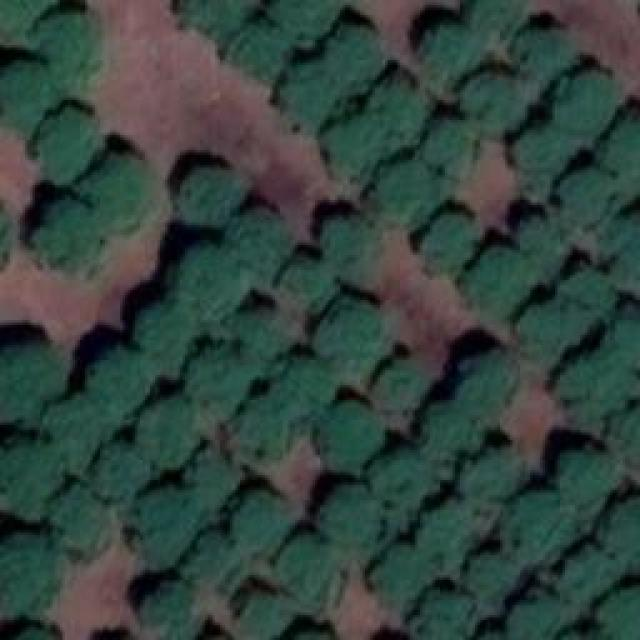Tree: (88, 153, 158, 233), (498, 490, 573, 563), (317, 298, 385, 373), (135, 485, 198, 563), (0, 343, 65, 418), (560, 350, 630, 418), (0, 437, 60, 515), (183, 245, 243, 323), (273, 535, 336, 608), (38, 13, 101, 86), (33, 198, 96, 271), (320, 115, 383, 188), (135, 300, 195, 375), (47, 488, 105, 563), (37, 110, 95, 185), (138, 395, 198, 465), (370, 450, 430, 520), (48, 393, 103, 468), (460, 70, 525, 133), (468, 243, 531, 308), (322, 485, 380, 555), (550, 70, 613, 133), (0, 537, 50, 615), (230, 208, 290, 273), (370, 160, 430, 225), (90, 350, 145, 420), (135, 580, 198, 640), (370, 75, 433, 135), (322, 25, 380, 90), (0, 60, 50, 135), (415, 405, 470, 473), (462, 445, 520, 505), (550, 547, 610, 605), (368, 545, 423, 608), (323, 405, 376, 470), (463, 348, 516, 413), (320, 215, 378, 273), (557, 452, 615, 510), (368, 355, 421, 418), (270, 358, 325, 418), (180, 168, 240, 223), (230, 20, 285, 80), (230, 492, 285, 550), (415, 23, 473, 78), (515, 305, 573, 360), (235, 398, 285, 461), (417, 500, 465, 565), (425, 215, 478, 273), (518, 28, 573, 81), (190, 350, 240, 408), (515, 125, 565, 183), (518, 215, 568, 273), (418, 592, 478, 640), (277, 63, 325, 123), (465, 550, 513, 610), (230, 300, 275, 363), (278, 255, 331, 308), (423, 120, 476, 173), (190, 530, 238, 588), (560, 170, 608, 225), (600, 118, 640, 181), (93, 445, 143, 495), (190, 448, 235, 503), (183, 0, 248, 38), (563, 267, 613, 315), (600, 498, 640, 558), (463, 0, 518, 40), (238, 592, 283, 640), (600, 587, 640, 640), (605, 210, 640, 270), (270, 0, 335, 32), (513, 595, 558, 640), (0, 0, 48, 35), (612, 313, 640, 368), (612, 408, 640, 463)
